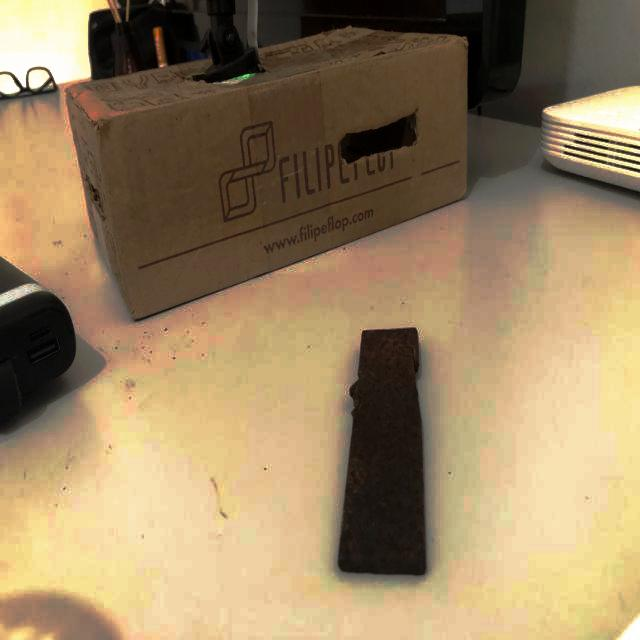Corrosion: (337, 327, 428, 577)
